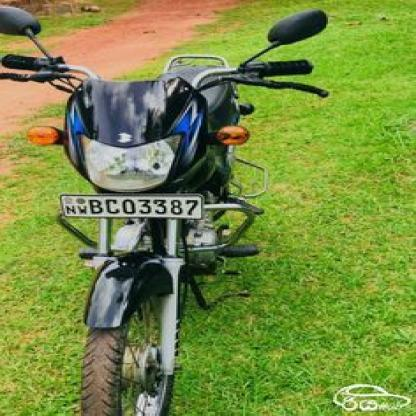bike front: (0, 0, 327, 416)
number plate: (57, 191, 207, 219)
